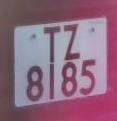1: (44, 59, 60, 104)
5: (78, 57, 99, 100)
8: (22, 61, 48, 106), (58, 58, 80, 102)
T: (40, 23, 64, 63)
Z: (61, 23, 84, 62)
